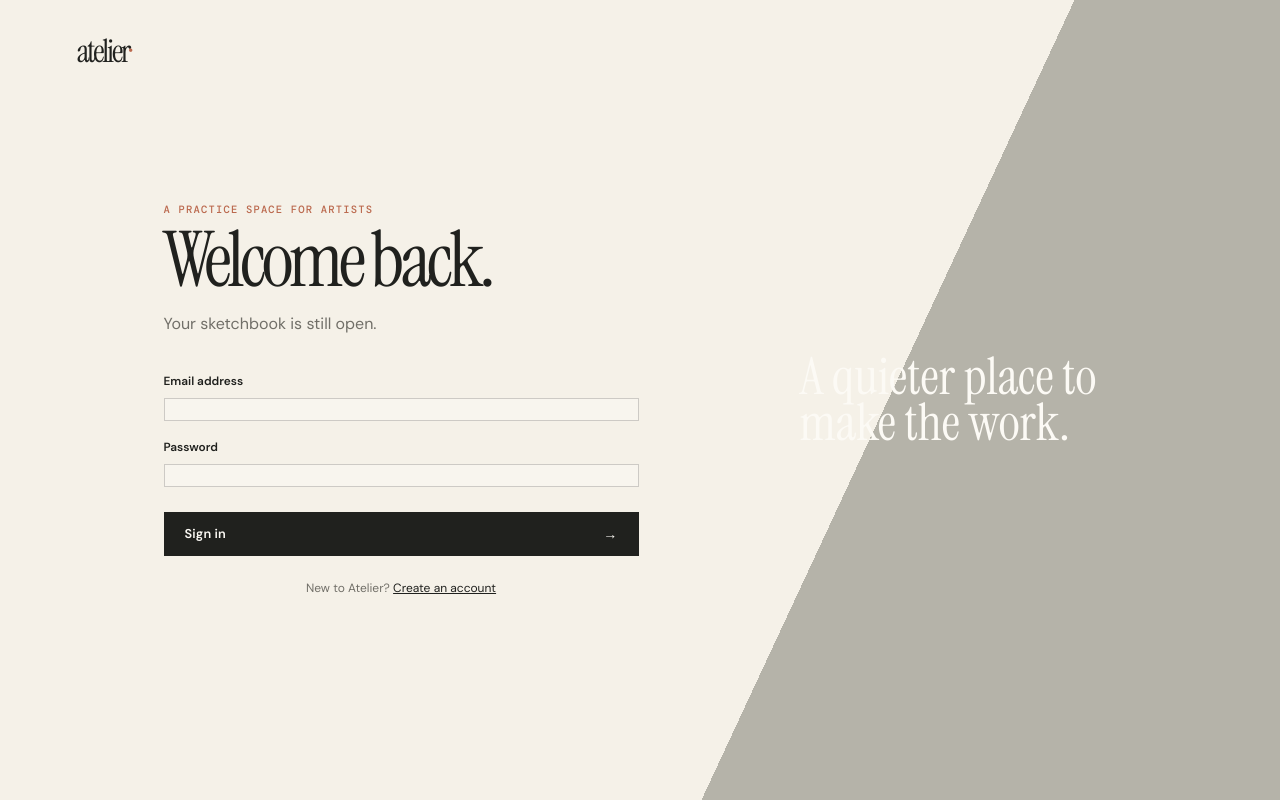
Scenario: SignInPage › explains what details are needed before a preview sign-in
Click the button "Sign in →": (205, 534) [164,512,638,556]
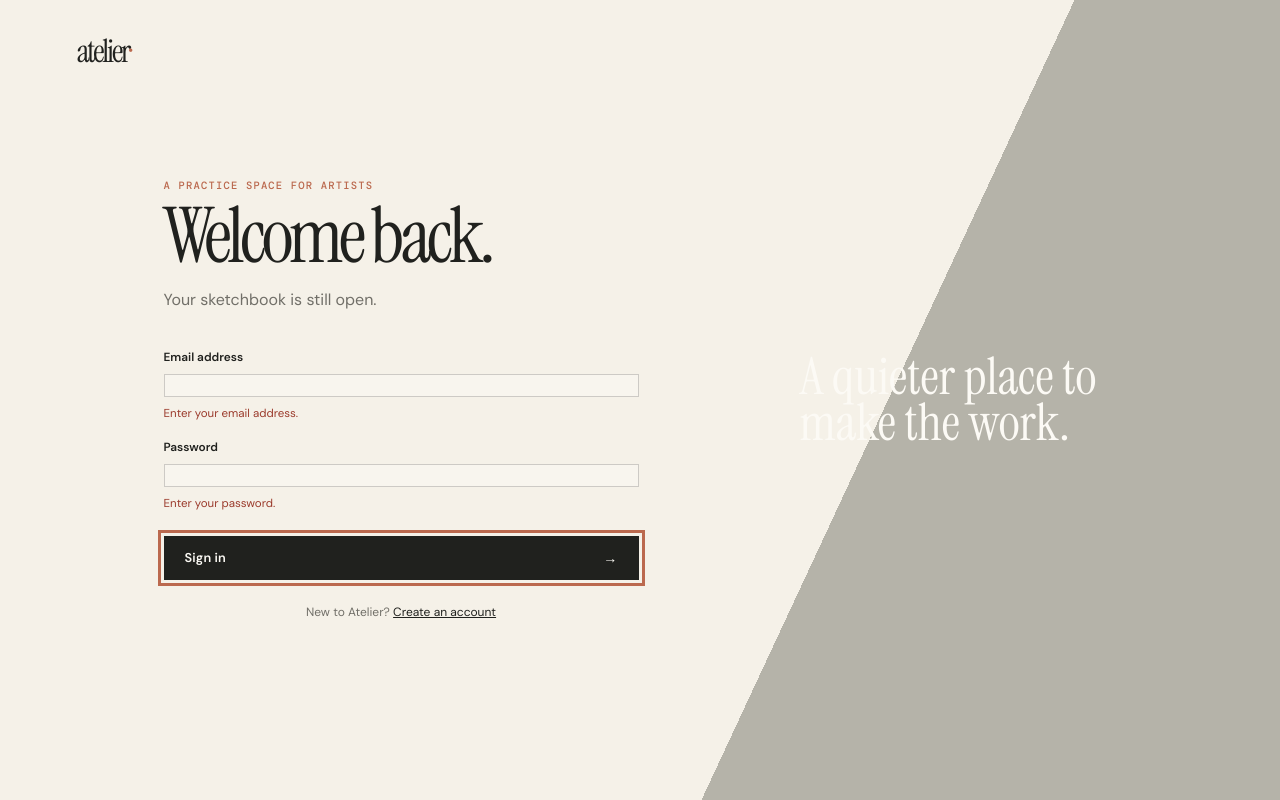
Check: the text "Enter your email address." is shown, box [164,406,298,421]
Check: the text "Enter your password." is shown, box [164,496,275,511]
